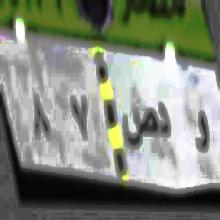7: (66, 77, 94, 157)
8: (28, 82, 55, 154)
daal: (158, 93, 173, 152)
saad: (117, 101, 158, 158)
waw: (190, 100, 215, 176)
